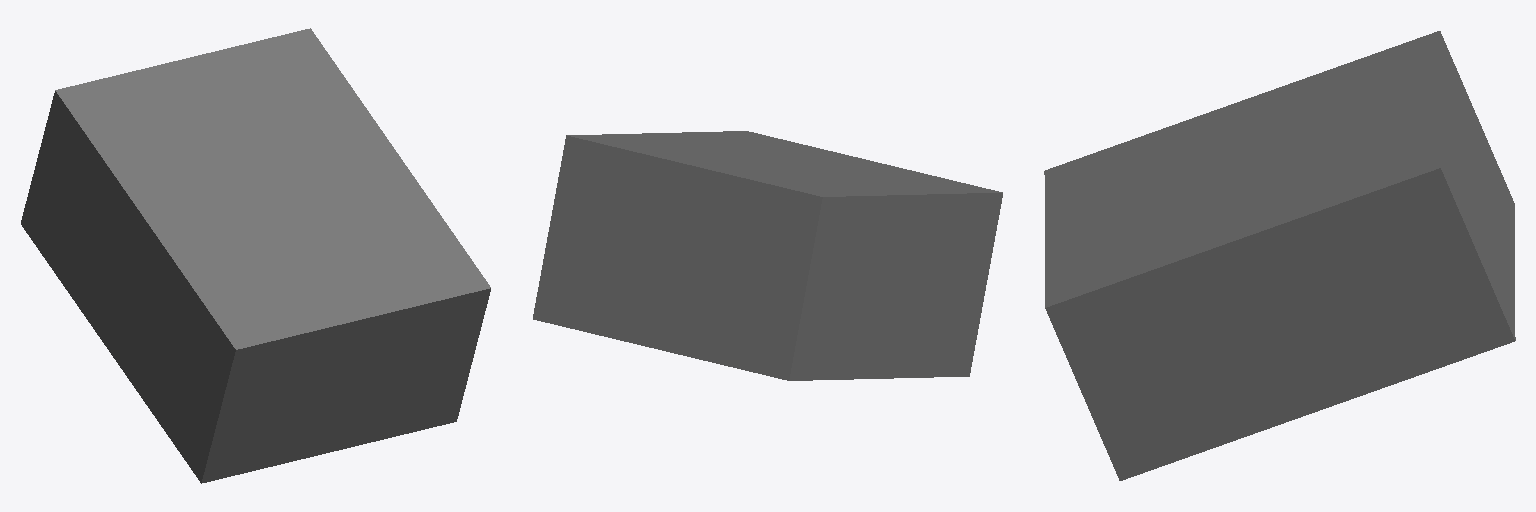
URDF robot description (brick_x-2-5):
<?xml version="1.0"?>
<robot name="brick_x-2-5">
  <link name="base">
    <visual>
      <geometry>
        <mesh filename="brick_x-2-5.obj" scale="1 1 1"/>
      </geometry>
      <material name="gray">
        <color rgba="0.5 0.5 0.5 1.0"/>
      </material>
    </visual>
    <collision>
      <geometry>
        <mesh filename="brick_x-2-5.obj" scale="1 1 1"/>
      </geometry>
    </collision>
    <inertial>
      <mass value="1.000"/>
      <inertia
          ixx="0.014678" ixy="0.000000" ixz="0.000000"
          iyy="0.009679" iyz="0.000000"
          izz="0.014036"/>
      <origin xyz="-0.077785 -0.161073 1.011160" rpy="0 0 0"/>
    </inertial>
  </link>
</robot>

--- What the picture shows (computed from the rendered views, not written in the file) ---
Views: 3 orthographic renders of the robot side by side, from view 1: azimuth 30°, elevation 25°; view 2: azimuth 150°, elevation 25°; view 3: azimuth 270°, elevation 25°.
Model brick_x-2-5 with 1 links and 0 joints (none), rooted at base, posed every joint at zero.
Links seen in each view (by area): view 1: base; view 2: base; view 3: base.
Boxes of the visible links, x1=… form: base: x1=21, y1=28, x2=490, y2=483; base: x1=533, y1=131, x2=1002, y2=380; base: x1=1044, y1=31, x2=1515, y2=480.
Bounding box of the posed robot: 0.2329 × 0.3379 × 0.2489 m (x, y, z).
Meshes: 1 distinct files referenced, 1 mesh visuals loaded (1 OBJ).
